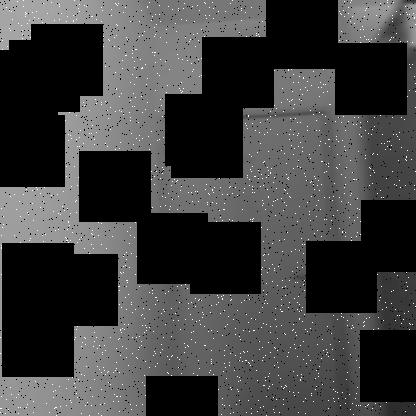Porte: (152, 103, 354, 416)
